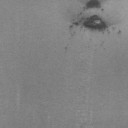iron sheet ash: (82, 14, 108, 30), (84, 0, 101, 9), (74, 22, 78, 26)
